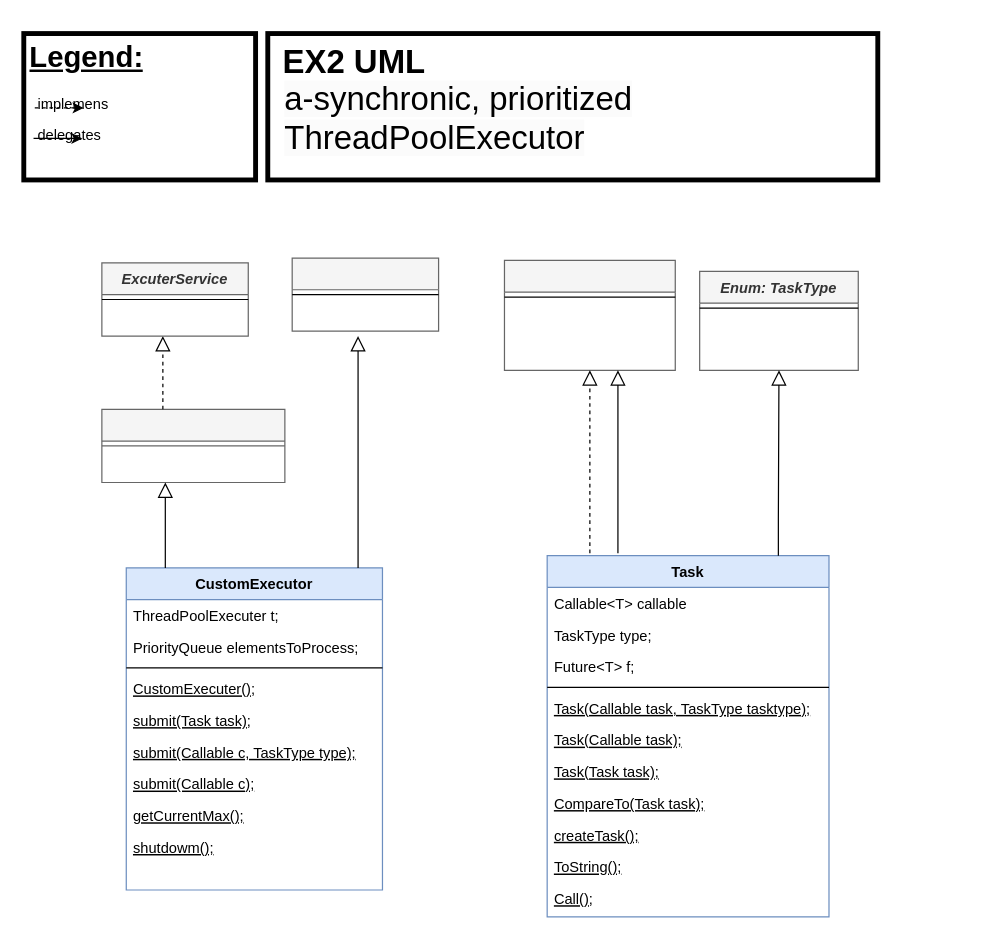
Image size: 986x941. Some labels were removed from this diagram. Each missing label, with the box of its shape:
Callable: (503, 259, 675, 370)
PriorityQueue: (291, 257, 439, 331)
ThreadPoolExecuter: (101, 408, 285, 483)
